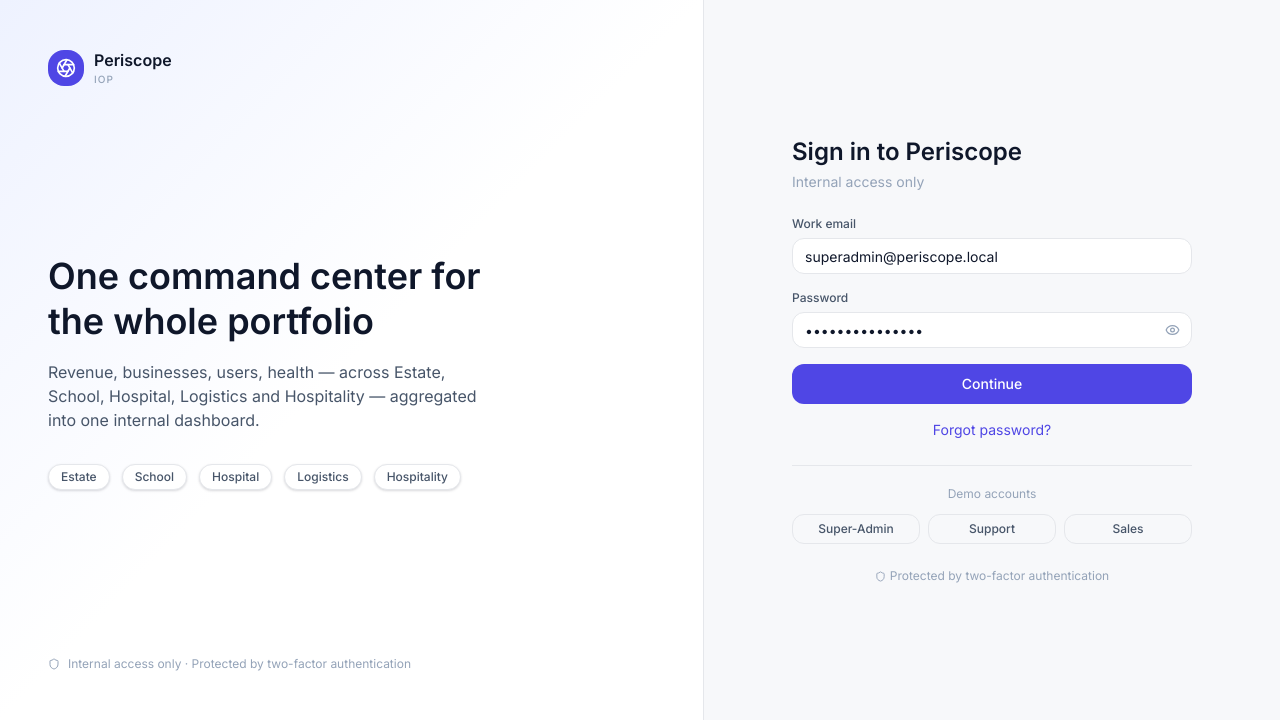
Test: LoginPage › demo buttons pre-fill email and password
Click the button "support" at (992, 529), box [928,514,1056,544]
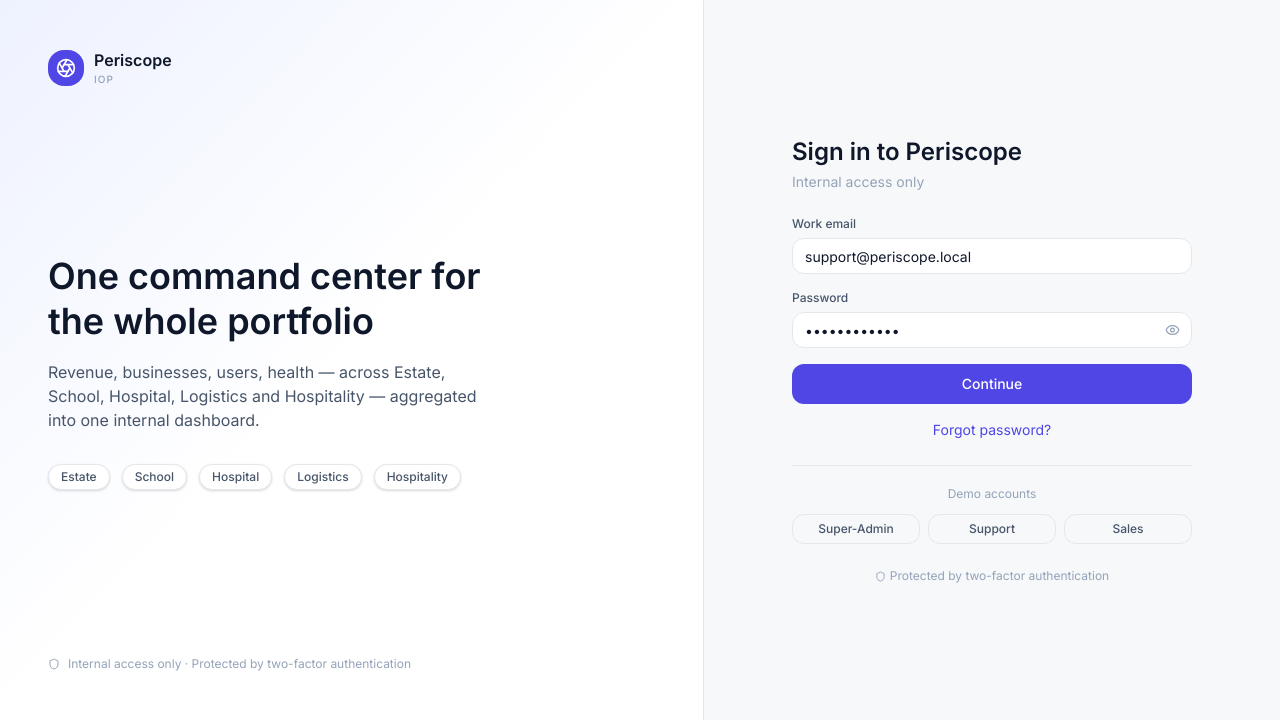
Now the field with placeholder "you@periscope.local" holds "support@periscope.local", box [792,238,1192,274]
